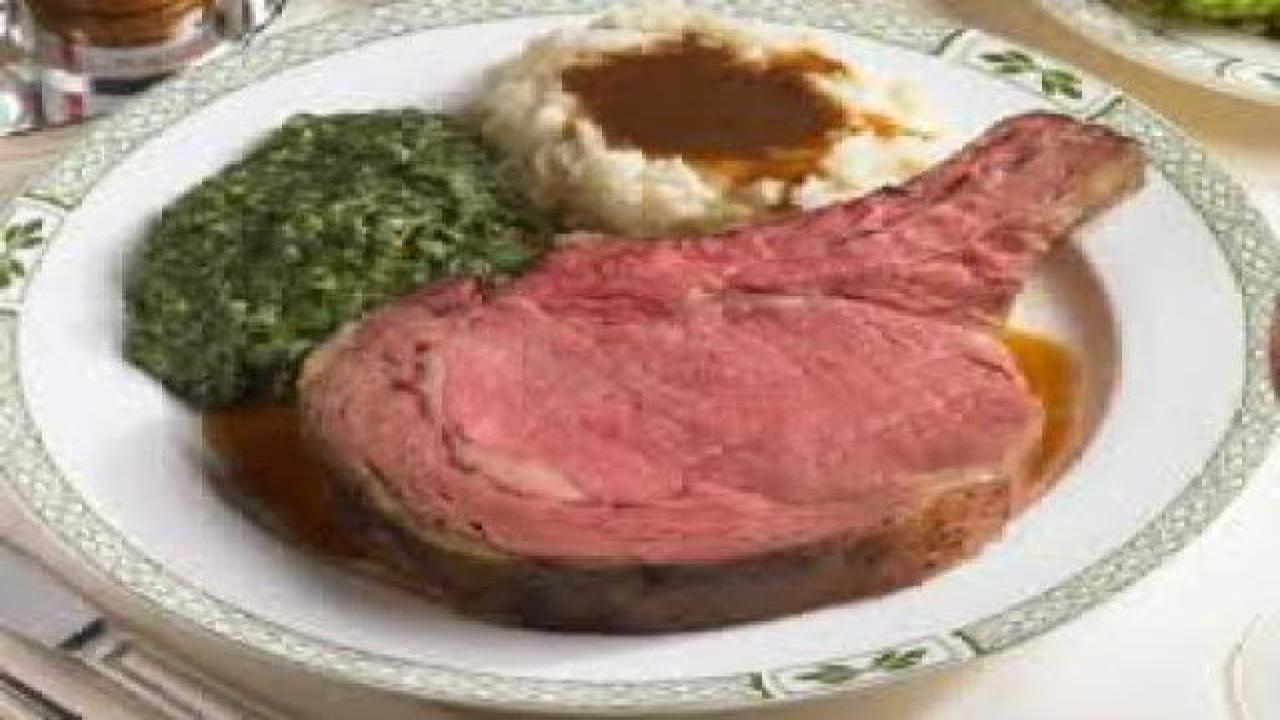raw: (306, 71, 1168, 634)
